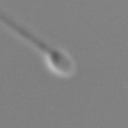normal: (2, 10, 50, 52)
